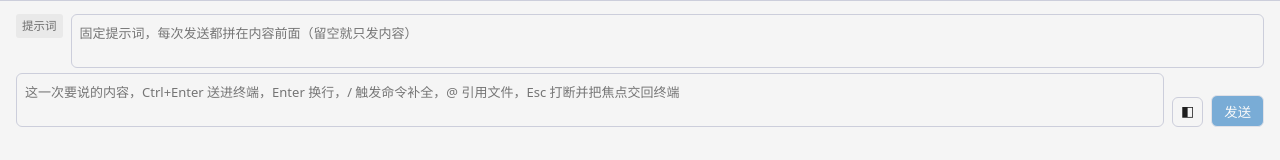
it: 终端输入框 › 空草稿时发送按钮不可点
This screenshot has width=1280, height=160.
Expected: the button with class "composer-button" is disabled, [1211,95,1264,127]
Replace the text in the 2nd text box with "x": (590, 100) [16,73,1164,127]
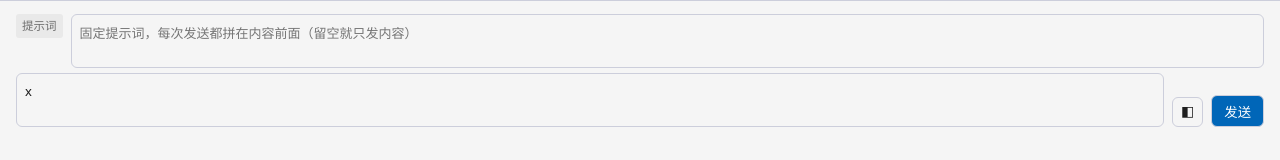
Result: the button with class "composer-button" is enabled at [1211,95,1264,127]
